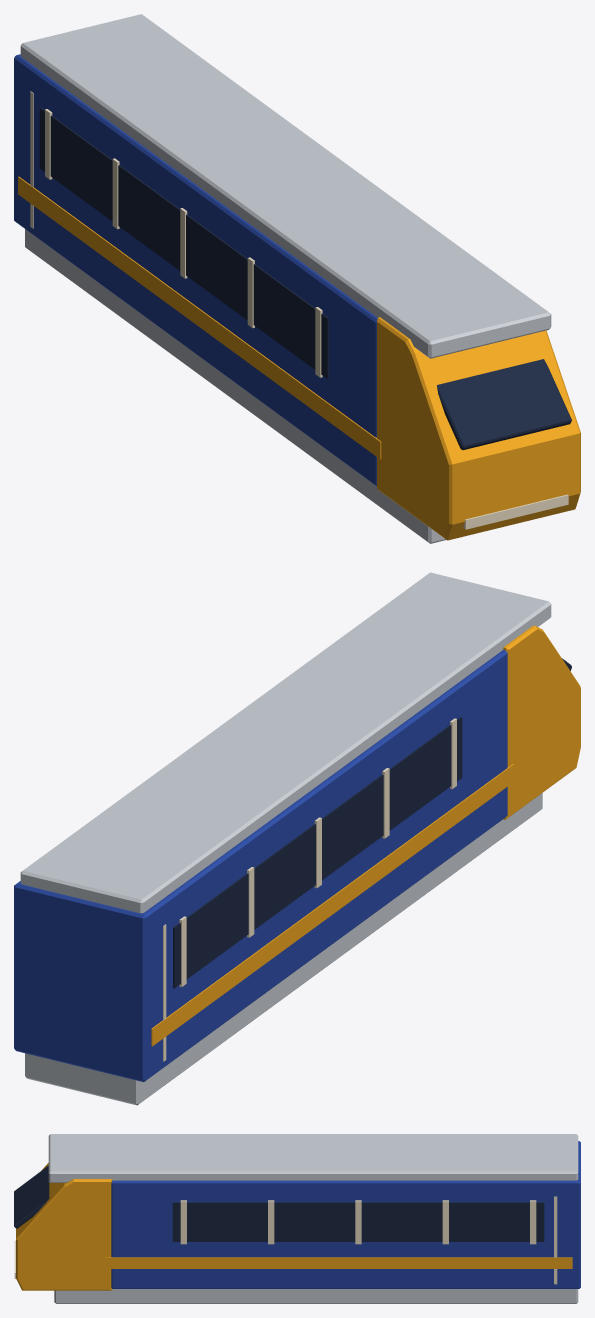
Rendered from train_car.glb.
3 renders of one model, top to bottom at view 1: azimuth 30°, elevation 25°; view 2: azimuth 150°, elevation 25°; view 3: azimuth 270°, elevation 25°, orthographic. The views are drawn at different scales.
Visible parts, largest first — view 1: roof_panel, body_shell, nose_shell, window_band_l, windshield, chassis, stripe_l, nose_lip; view 2: body_shell, roof_panel, window_band_l, nose_shell, chassis, stripe_l; view 3: body_shell, roof_panel, window_band_r, nose_shell, chassis, stripe_r, windshield, mullion_r_2, mullion_r_0, mullion_r_1, mullion_r_3, mullion_r_4 (+1 smaller).
Part boxes in pixels (x1,y1,x2,y2): roof_panel: (20,14,551,358); body_shell: (14,54,377,485); nose_shell: (377,317,580,540); window_band_l: (39,107,328,378); windshield: (437,359,571,450); chassis: (25,229,446,543); stripe_l: (18,176,381,459); nose_lip: (463,494,568,529); body_shell: (14,650,507,1081); roof_panel: (20,572,551,913); window_band_l: (173,717,462,988); nose_shell: (503,625,580,819); chassis: (25,793,542,1105); stripe_l: (151,764,514,1046); body_shell: (111,1141,580,1288); roof_panel: (48,1134,578,1182); window_band_r: (172,1202,544,1241); nose_shell: (16,1163,112,1290); chassis: (54,1289,578,1303); stripe_r: (105,1257,572,1268); windshield: (14,1166,49,1228); mullion_r_2: (355,1200,361,1244); mullion_r_0: (530,1200,536,1244); mullion_r_1: (442,1200,448,1244); mullion_r_3: (268,1200,274,1244); mullion_r_4: (180,1200,186,1244).
Bounding box in the file's own units: 1.8 × 2.6 × 10.
